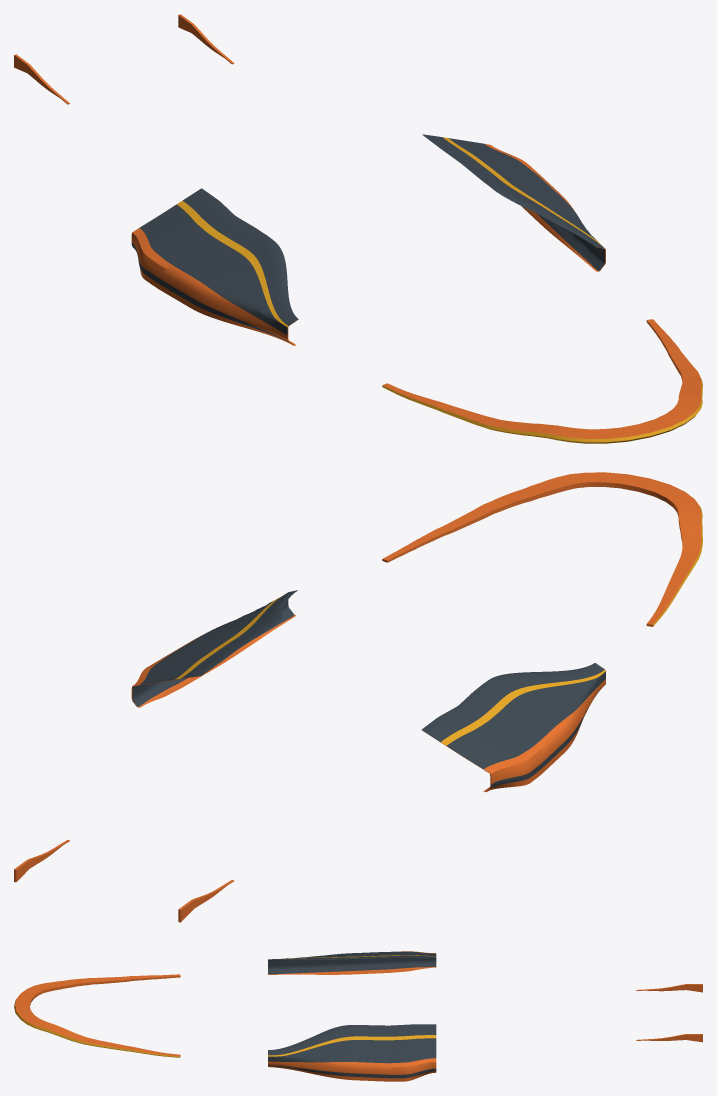
File: bastion_armor_bulwark.fbx
3 renders of one model, top to bottom at view 1: azimuth 30°, elevation 25°; view 2: azimuth 150°, elevation 25°; view 3: azimuth 270°, elevation 25°, orthographic. The views are drawn at different scales.
Visible parts, largest first — view 1: Armor_Bulwark; view 2: Armor_Bulwark; view 3: Armor_Bulwark.
Boxes of the visible parts, x1,y1,x2,y2 form: Armor_Bulwark: (14, 14, 702, 443); Armor_Bulwark: (14, 472, 702, 922); Armor_Bulwark: (14, 951, 702, 1081).
Bounding box in the file's own units: 283 × 36.9 × 704.
